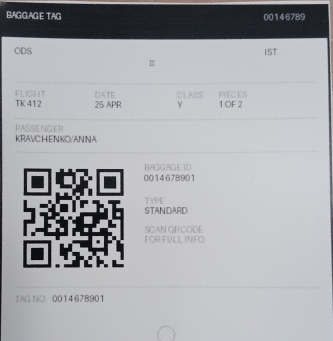LPN_bottom: (49, 290, 108, 304)
LPN_right: (141, 171, 198, 184)
